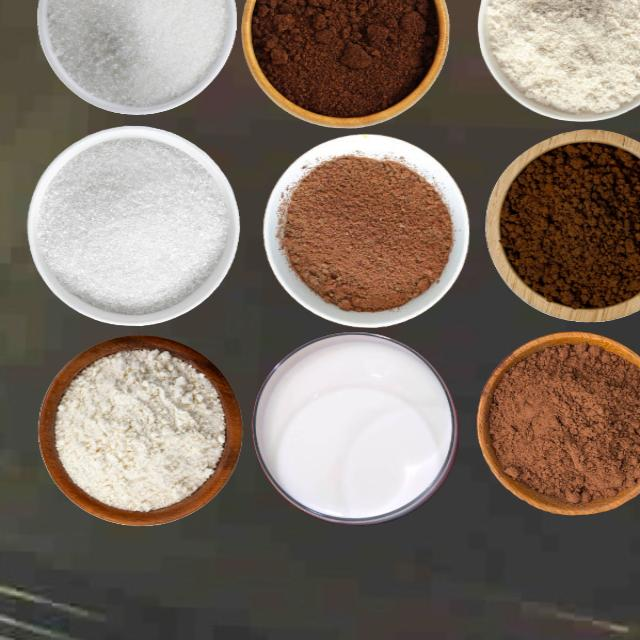Cocoa: (485, 330, 640, 530), (279, 153, 453, 312)
Coffee: (498, 140, 639, 309), (249, 0, 438, 118)
Flour: (53, 347, 226, 512), (484, 0, 639, 114)
Sugar: (34, 136, 228, 314), (44, 0, 230, 107)
